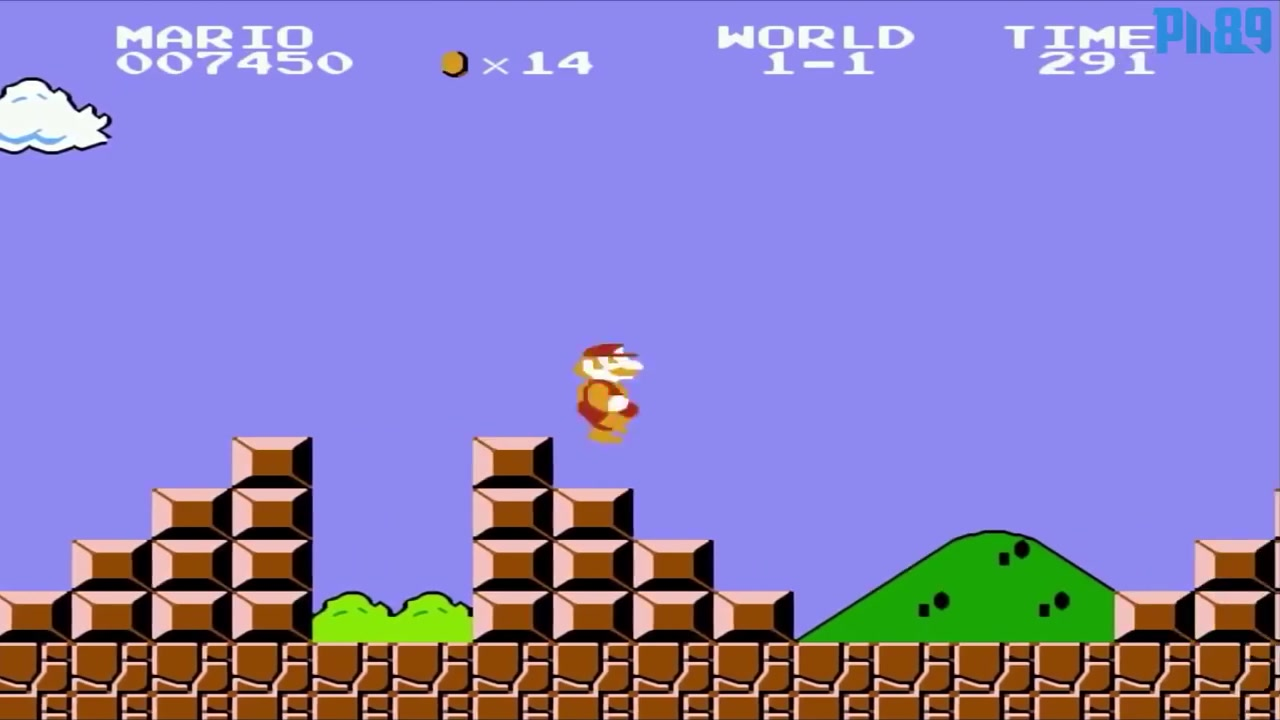mario: (573, 339, 651, 446)
